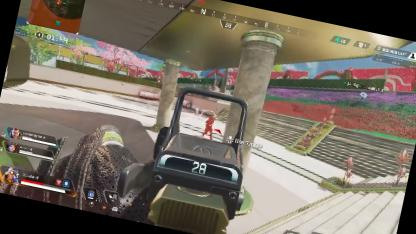Target: (200, 114, 216, 138)
